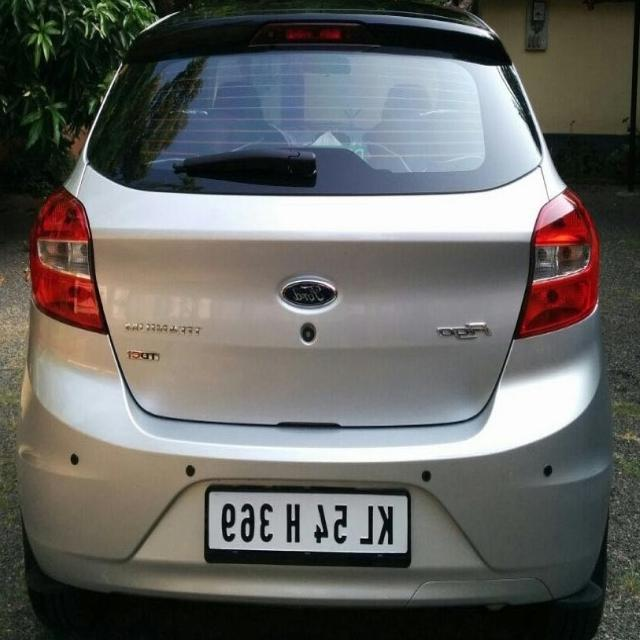number-plate: (206, 490, 408, 553)
